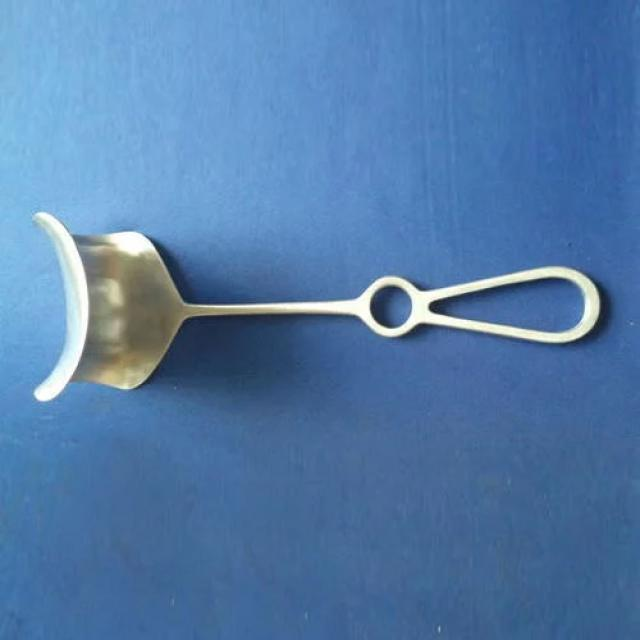Morris Retractor: (19, 199, 604, 403)
